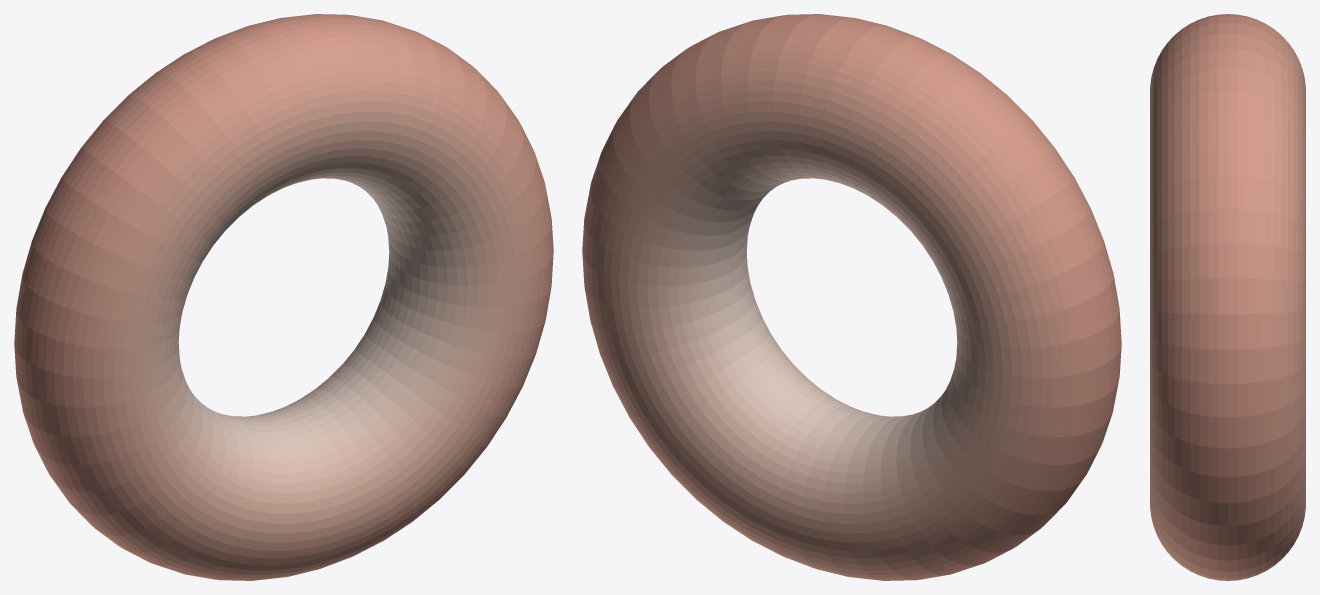
3 renders of one model, left to right at view 1: azimuth 30°, elevation 25°; view 2: azimuth 150°, elevation 25°; view 3: azimuth 270°, elevation 25°, orthographic. The views are drawn at different scales.
Visible parts, largest first — view 1: world; view 2: world; view 3: world.
Boxes of the visible parts, x1=… form: world: x1=14, y1=14, x2=553, y2=580; world: x1=582, y1=14, x2=1121, y2=580; world: x1=1150, y1=14, x2=1305, y2=580.
Bounding box in the file's own units: 27.6 × 27.55 × 7.59.
